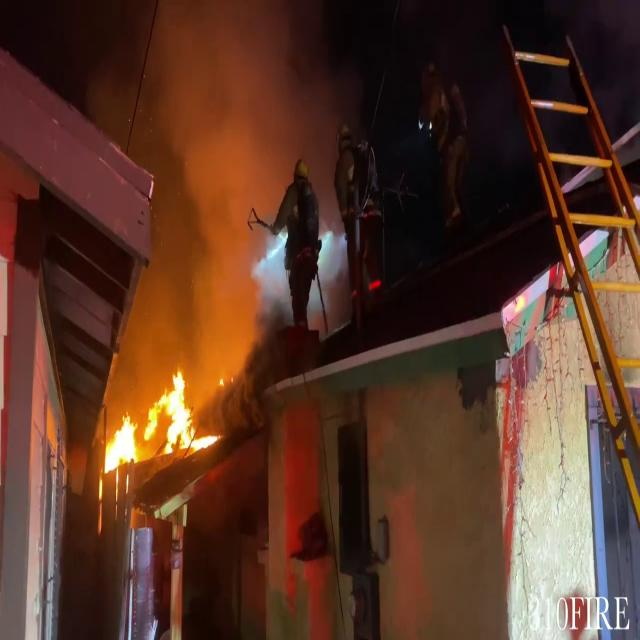Fire: (99, 364, 217, 486)
Smoke: (104, 0, 359, 372)
